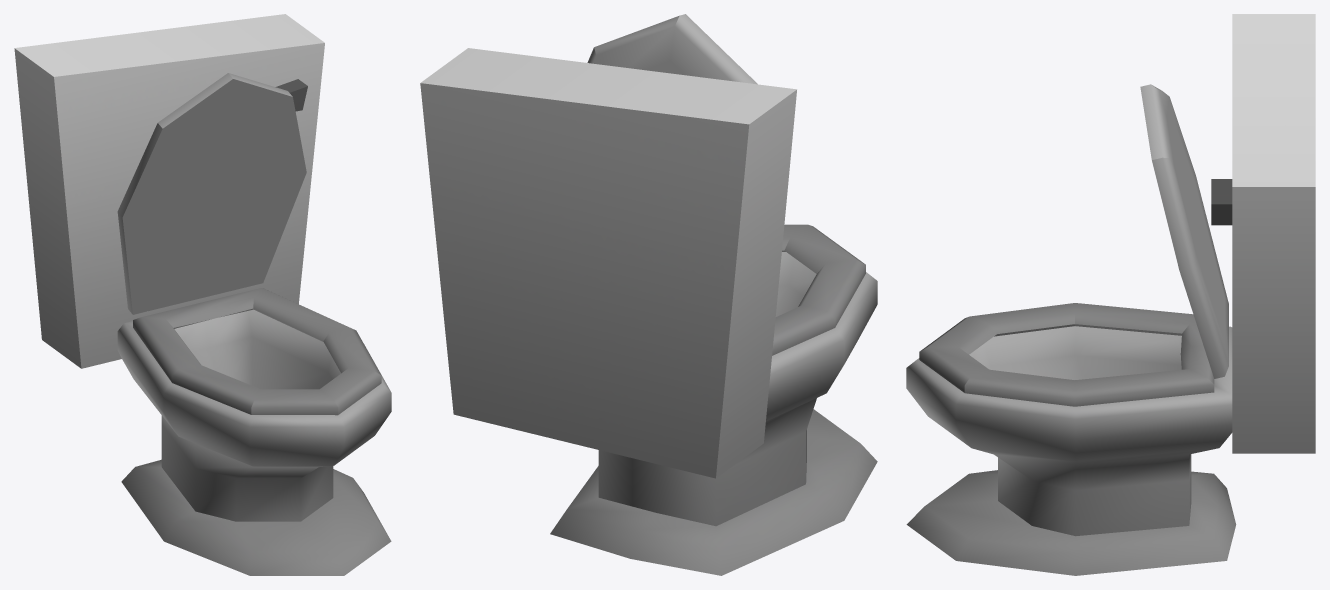
Rendered from cesso.fbx.
3 views of the same model, side by side, from view 1: azimuth 30°, elevation 25°; view 2: azimuth 150°, elevation 25°; view 3: azimuth 270°, elevation 25° (orthographic). The views are drawn at different scales.
Parts seen in each view (by area): view 1: wc, tavoletta, poggiachiappe; view 2: wc, poggiachiappe, tavoletta; view 3: wc, poggiachiappe, tavoletta.
Part boxes in pixels (x1,y1,x2,y2): wc: (14,14,391,575); tavoletta: (117,73,306,314); poggiachiappe: (133,288,381,415); wc: (420,48,877,575); poggiachiappe: (772,224,865,355); tavoletta: (587,14,757,84); wc: (906,14,1315,575); poggiachiappe: (919,303,1214,406); tavoletta: (1140,84,1228,378).
Bounding box in the file's own units: 183 × 271 × 228.
